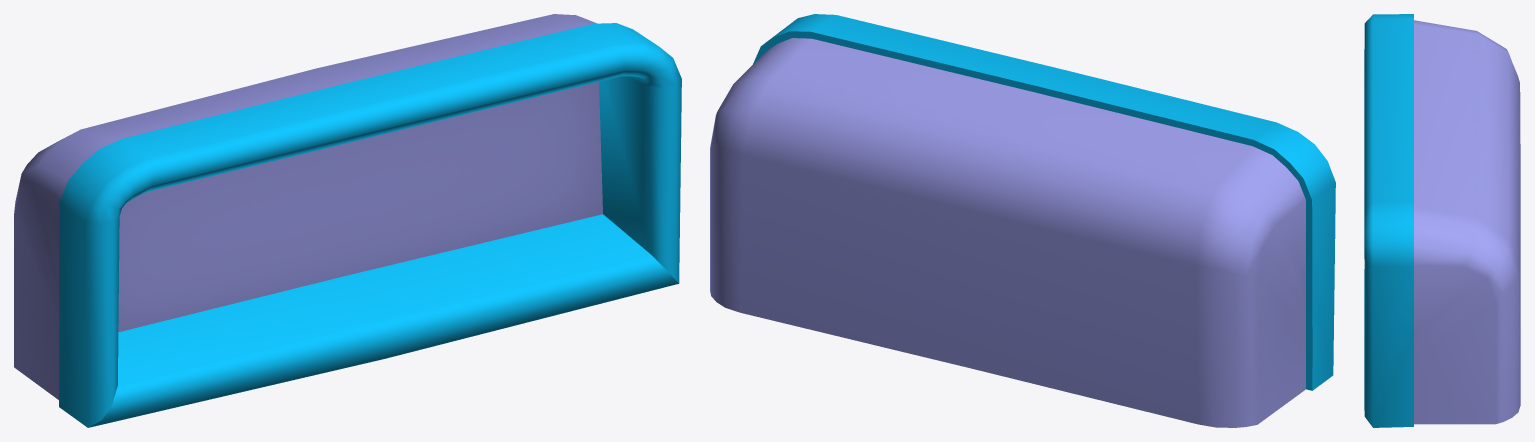
File: model_DoorSpawn1x2.fbx
3 renders of one model, left to right at view 1: azimuth 30°, elevation 25°; view 2: azimuth 150°, elevation 25°; view 3: azimuth 270°, elevation 25°, orthographic. The views are drawn at different scales.
Visible parts, largest first — view 1: model_DoorSpawn1x2; view 2: model_DoorSpawn1x2; view 3: model_DoorSpawn1x2.
Part boxes in pixels (bbox=[...]): model_DoorSpawn1x2: bbox=[14, 14, 681, 427]; model_DoorSpawn1x2: bbox=[710, 14, 1335, 427]; model_DoorSpawn1x2: bbox=[1364, 14, 1520, 427].
Bounding box in the file's own units: 199 × 82.05 × 56.68.
